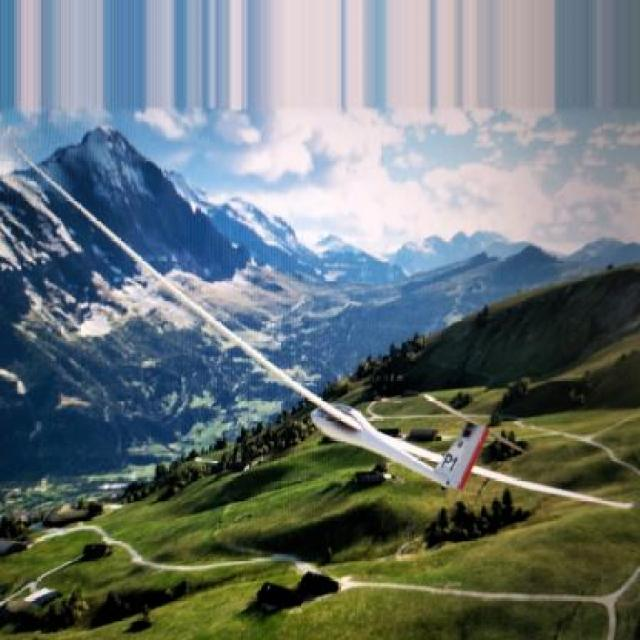iha: (37, 189, 640, 511)
